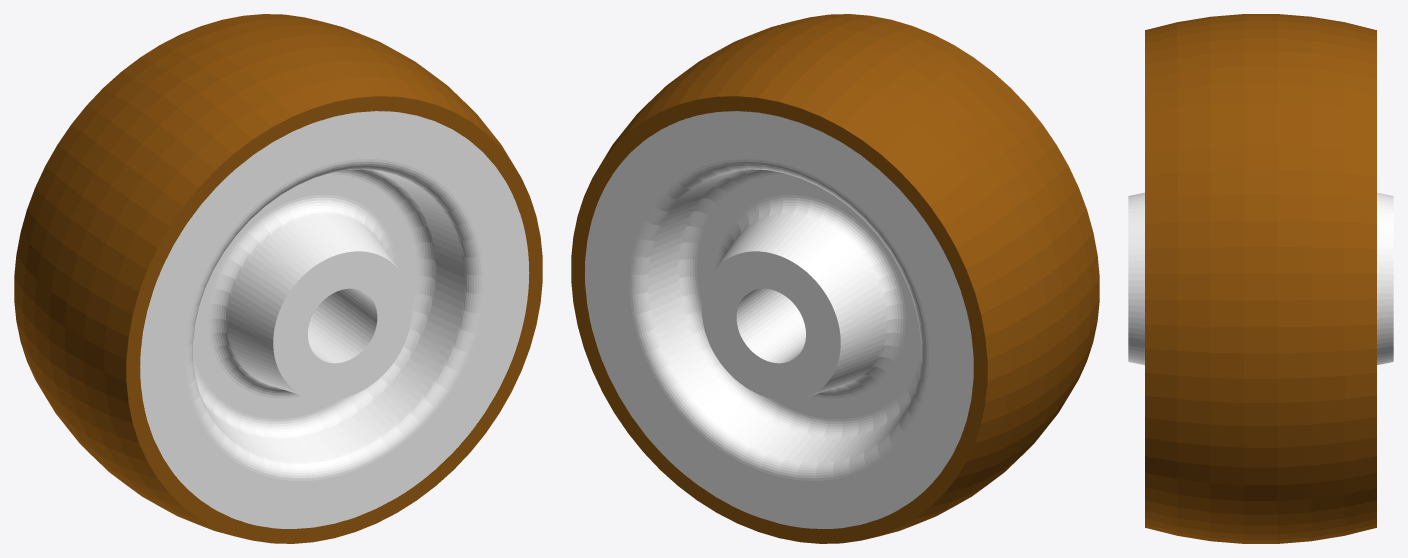
The model's file is caster_wheel.dae.
The picture shows the model from 3 angles, left to right: view 1: azimuth 30°, elevation 25°; view 2: azimuth 150°, elevation 25°; view 3: azimuth 270°, elevation 25°; orthographic projection. The views are drawn at different scales.
Parts seen in each view (by area): view 1: Document (×2); view 2: Document (×2); view 3: Document (×2).
Part boxes in pixels (<box>): Document (×2): <box>14,14,542,543</box>; Document (×2): <box>571,14,1099,543</box>; Document (×2): <box>1128,14,1393,543</box>.
Bounding box in the file's own units: 0.0319 × 0.016 × 0.032.
